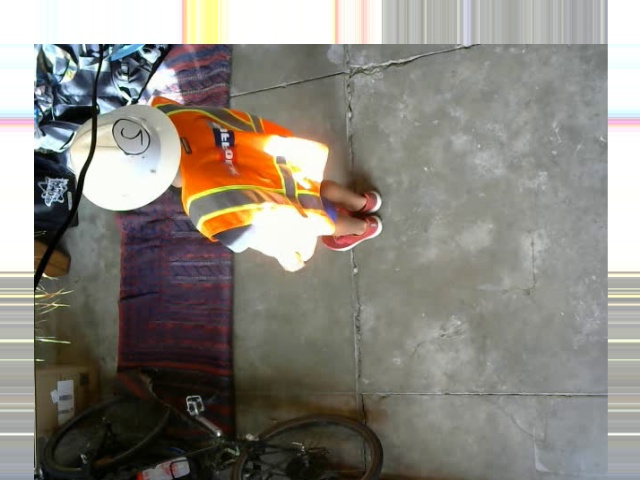two: (111, 118, 149, 155)
